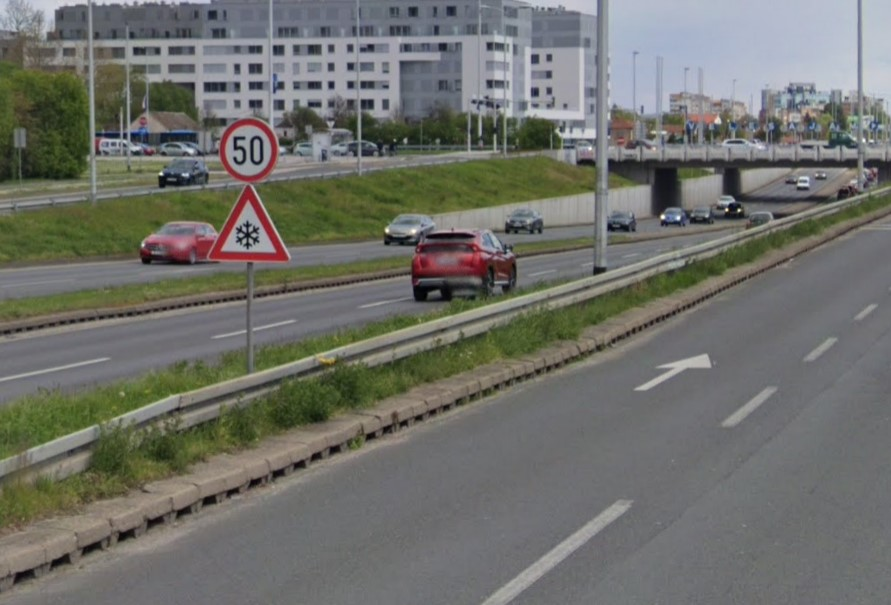Ograničenje brzine 50: (219, 117, 279, 183)
